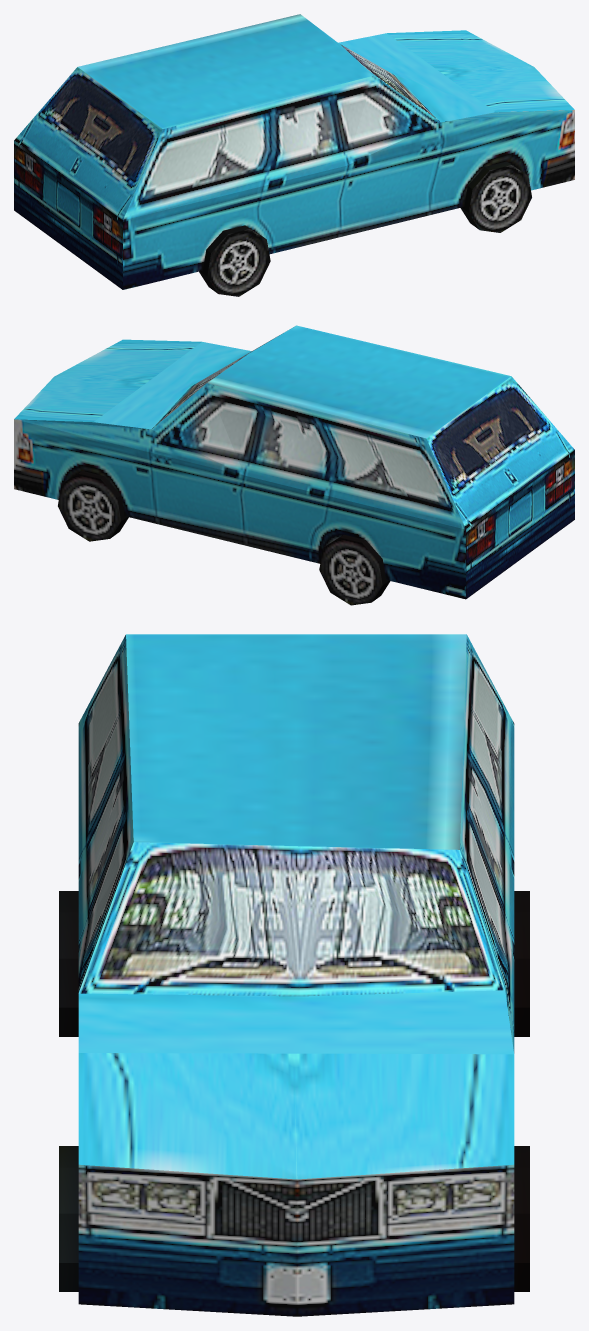
Rendered from Auto8celeste.fbx.
3 views of the same model, one above another, from view 1: azimuth 30°, elevation 25°; view 2: azimuth 150°, elevation 25°; view 3: azimuth 270°, elevation 25° (orthographic). The views are drawn at different scales.
Visible parts, largest first — view 1: Car, Wheel2, Wheel1; view 2: Car, Wheel3, Wheel4; view 3: Car, Wheel1, Wheel2, Wheel3, Wheel4.
Boxes of the visible parts, x1,y1,x2,y2 form: Car: (14, 14, 574, 289); Wheel2: (199, 225, 270, 296); Wheel1: (460, 161, 531, 232); Car: (14, 325, 574, 599); Wheel3: (319, 534, 390, 605); Wheel4: (58, 471, 128, 541); Car: (78, 634, 514, 1316); Wheel1: (59, 1146, 78, 1291); Wheel2: (59, 891, 78, 1036); Wheel3: (514, 891, 529, 1036); Wheel4: (514, 1146, 529, 1291).
Size of the model in its own units: 345 by 121 by 151.
